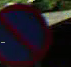No waiting: (0, 1, 54, 66)
